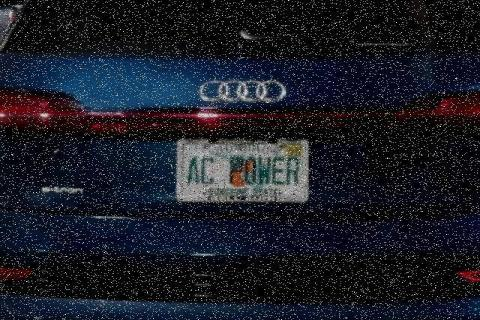LicensePlate: (173, 136, 310, 204)
